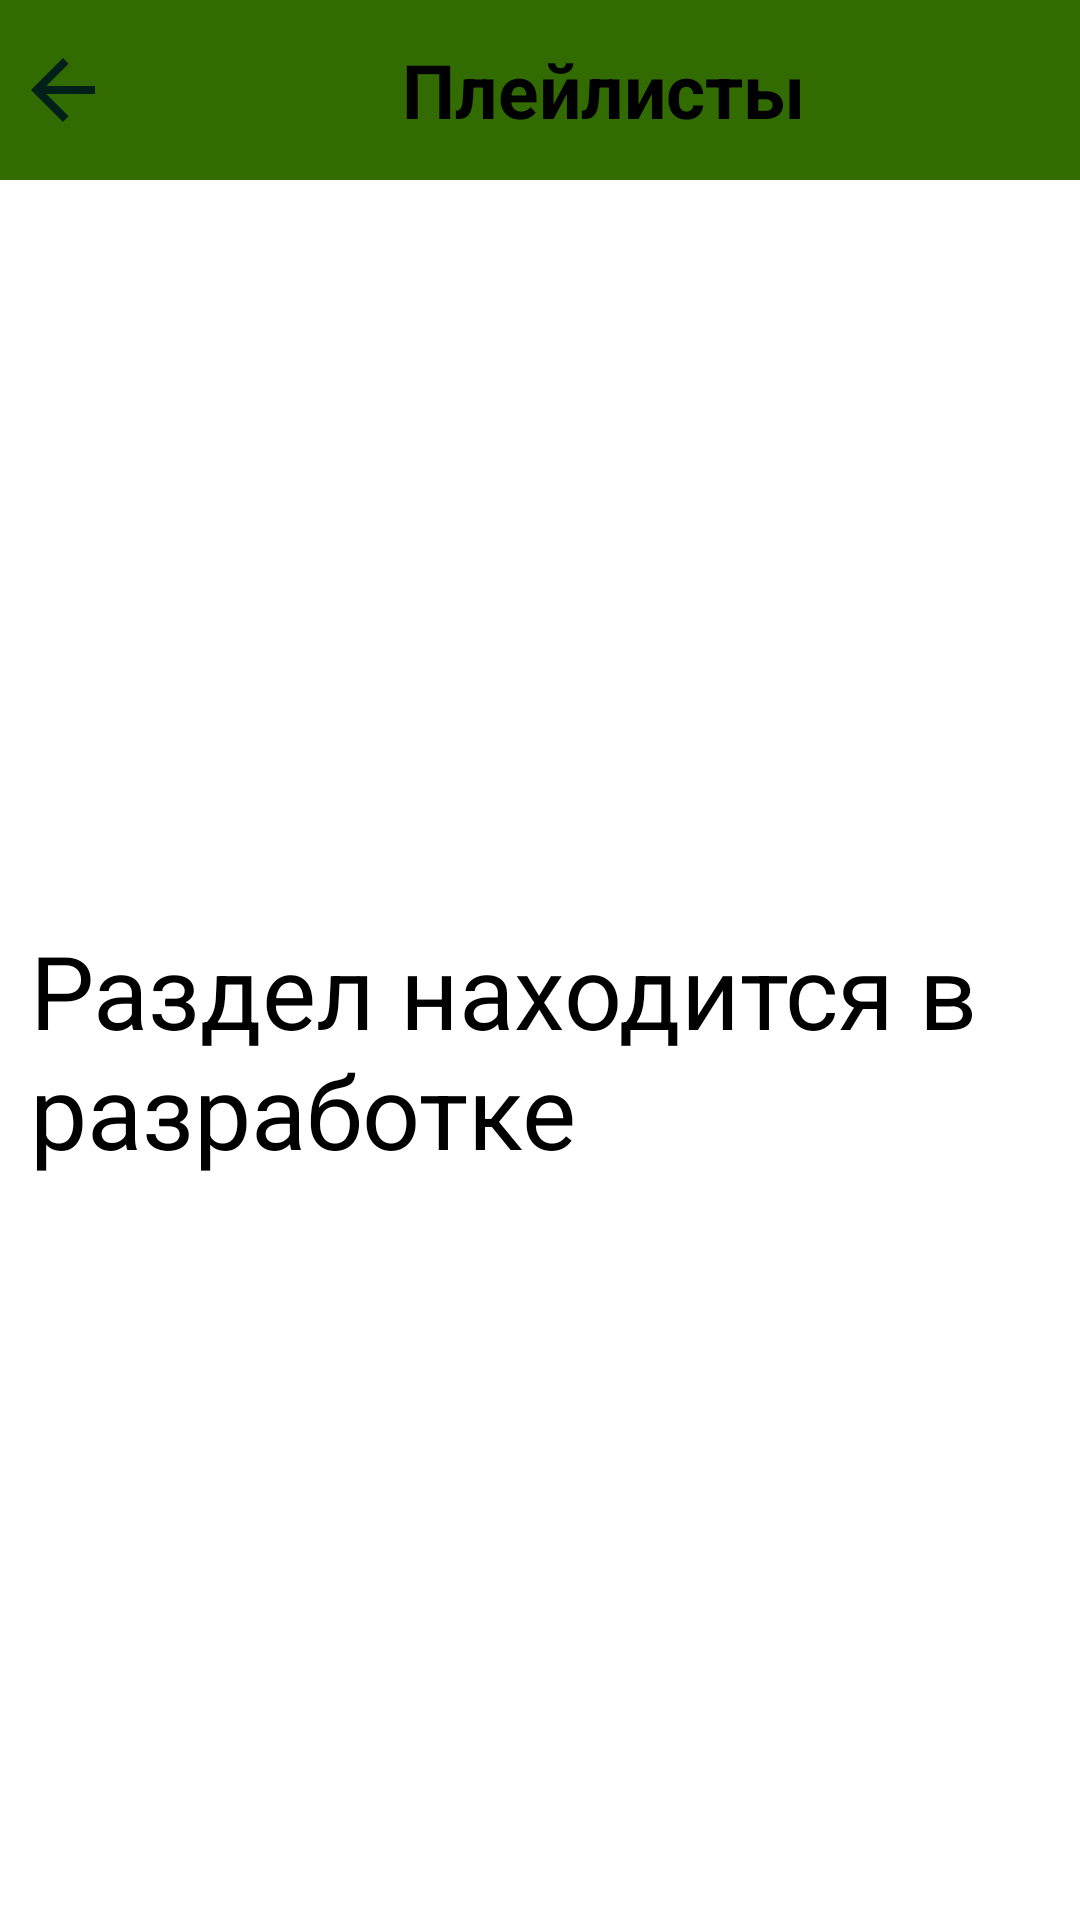

Icons on this 1080 × 1920 Android screen, each with the point to tap as point (x, y):
back: point (63, 90)
